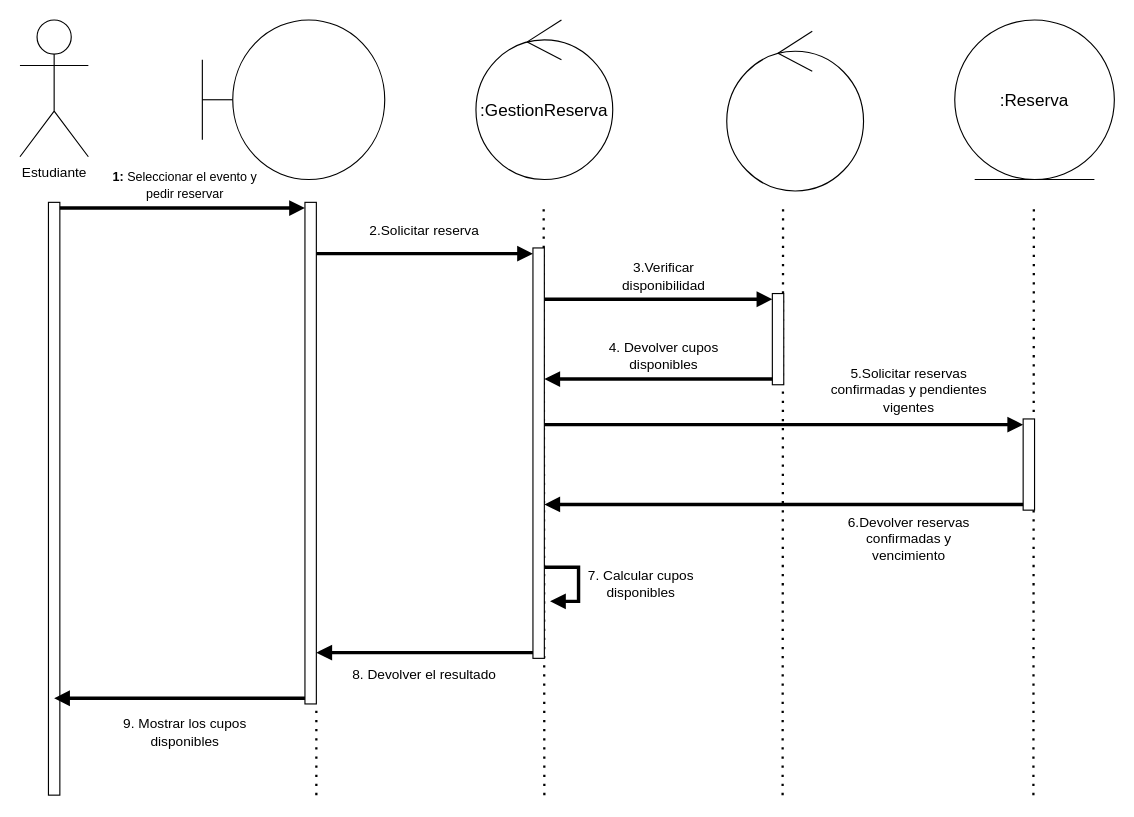
Image size: 1134x817. Some labels were removed from this diagram. The box of each missing label's shape, as (x1, y1, x2, y2) in pixels:
:Calculo Disponibilidad: (726, 30, 864, 191)
:PantallaEvento: (201, 19, 385, 180)
